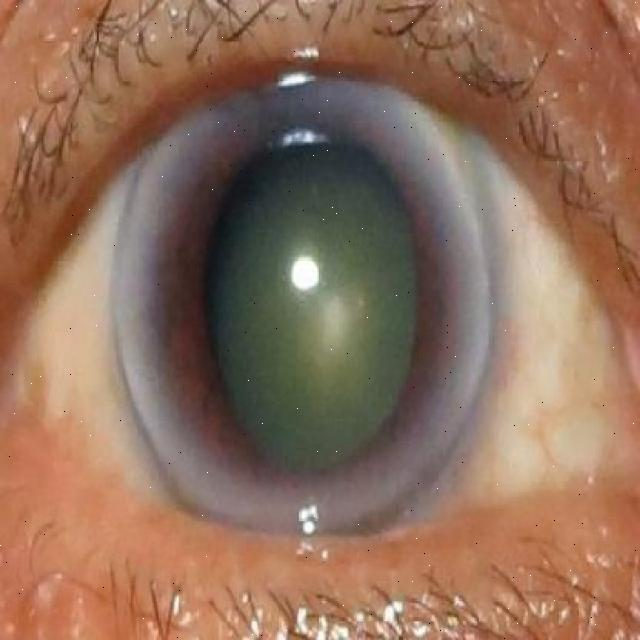Cataract: (112, 73, 496, 550)
